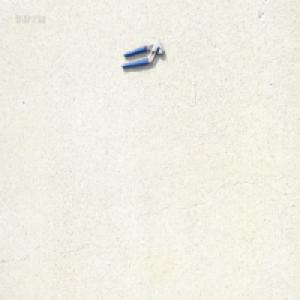Pliers: (121, 40, 165, 70)
